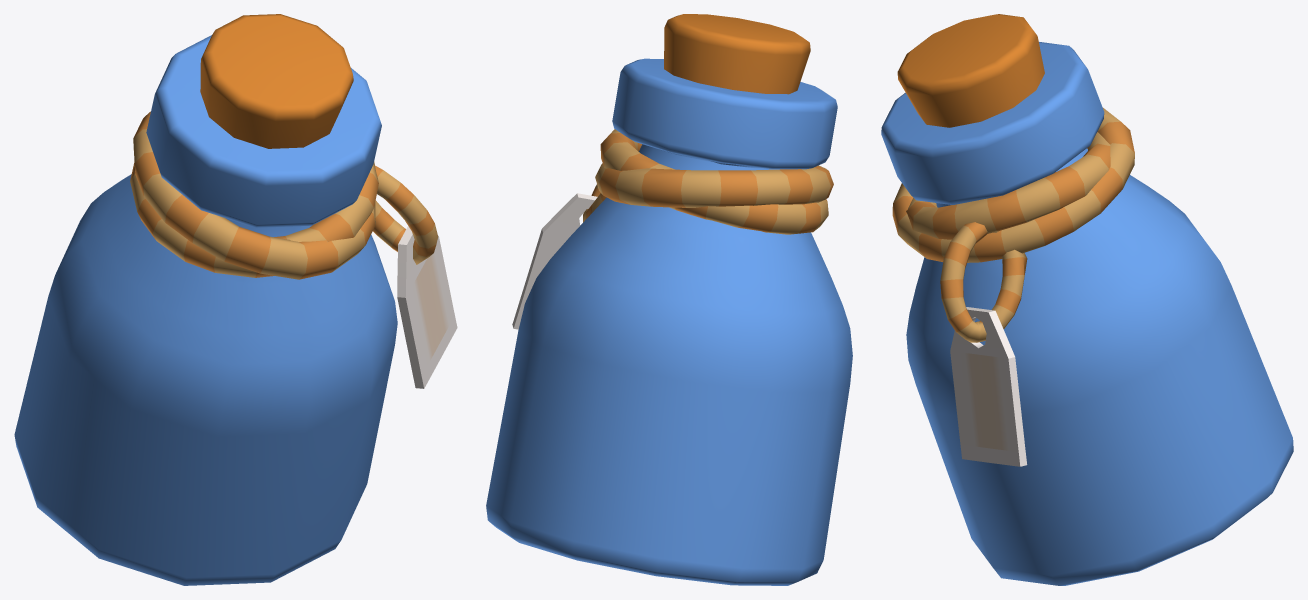
The picture shows the model from 3 angles, left to right: view 1: azimuth 30°, elevation 25°; view 2: azimuth 150°, elevation 25°; view 3: azimuth 270°, elevation 25°; orthographic projection. The views are drawn at different scales.
Parts seen in each view (by area): view 1: model_1.118; view 2: model_1.118; view 3: model_1.118.
Part boxes in pixels (x1,y1,x2,y2): model_1.118: (14, 14, 457, 585); model_1.118: (486, 14, 852, 585); model_1.118: (881, 14, 1293, 585).
Bounding box in the file's own units: 2.94 × 4.26 × 3.05.
